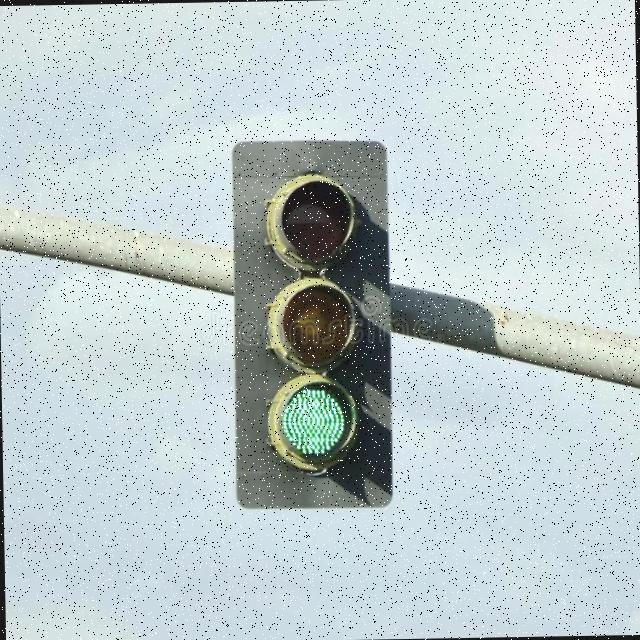Zielone swiatlo: (246, 160, 377, 490)
